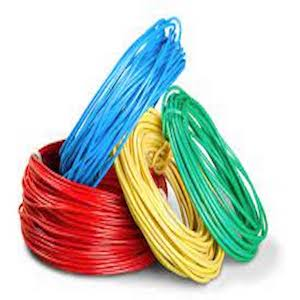combustible: (19, 150, 265, 266), (75, 15, 184, 161)
